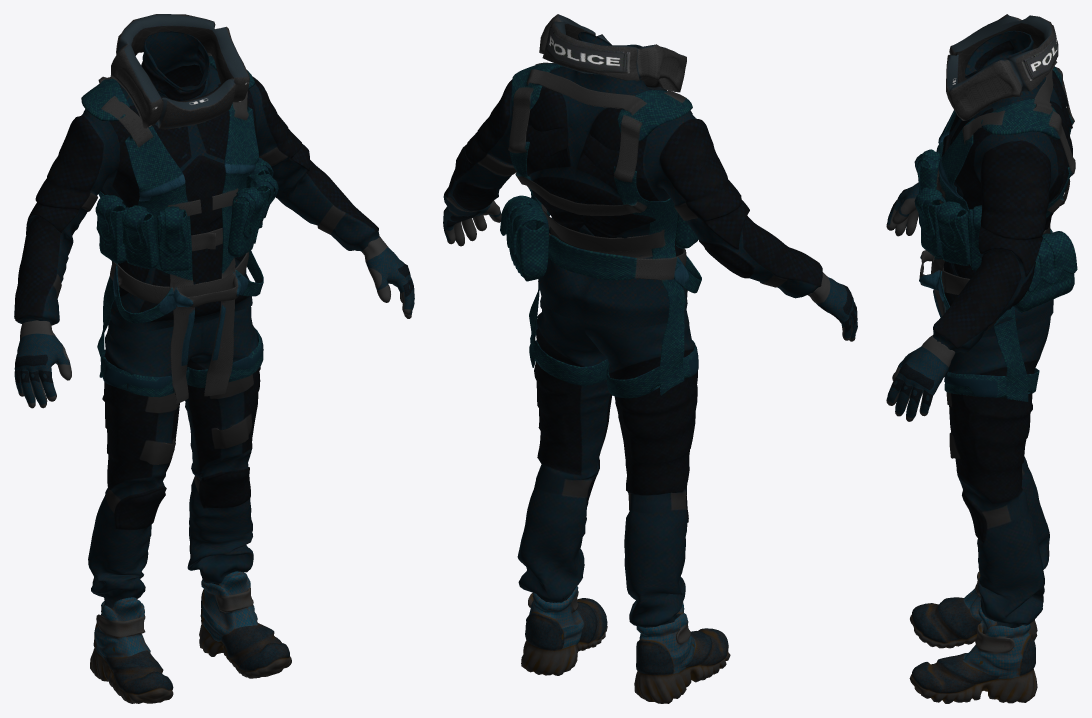
3 renders of one model, left to right at view 1: azimuth 30°, elevation 25°; view 2: azimuth 150°, elevation 25°; view 3: azimuth 270°, elevation 25°, orthographic. The views are drawn at different scales.
Parts seen in each view (by area): view 1: we, sd, polySurface410, polySurface1, polySurface412, polySurface409, df; view 2: we, sd, polySurface410, polySurface1, polySurface409, polySurface412, df; view 3: we, sd, polySurface410, polySurface1, polySurface412, polySurface409, df.
Boxes of the visible parts, <box> form: we: <box>14,31,379,332</box>; sd: <box>88,306,260,608</box>; polySurface410: <box>81,53,263,403</box>; polySurface1: <box>90,571,291,703</box>; polySurface412: <box>95,158,278,271</box>; polySurface409: <box>110,14,249,129</box>; df: <box>14,236,414,408</box>; we: <box>443,32,822,328</box>; sd: <box>517,255,697,627</box>; polySurface410: <box>508,62,701,398</box>; polySurface1: <box>521,586,730,703</box>; polySurface409: <box>539,14,686,92</box>; polySurface412: <box>500,193,698,281</box>; df: <box>443,200,857,341</box>; we: <box>933,30,1072,353</box>; sd: <box>946,309,1050,627</box>; polySurface410: <box>919,61,1075,401</box>; polySurface1: <box>909,571,1037,703</box>; polySurface412: <box>914,145,1077,312</box>; polySurface409: <box>946,14,1058,120</box>; df: <box>886,182,955,421</box>.
Size of the model in its own units: 1.13 by 1.74 by 0.471.
4 materials, 4 textured.
